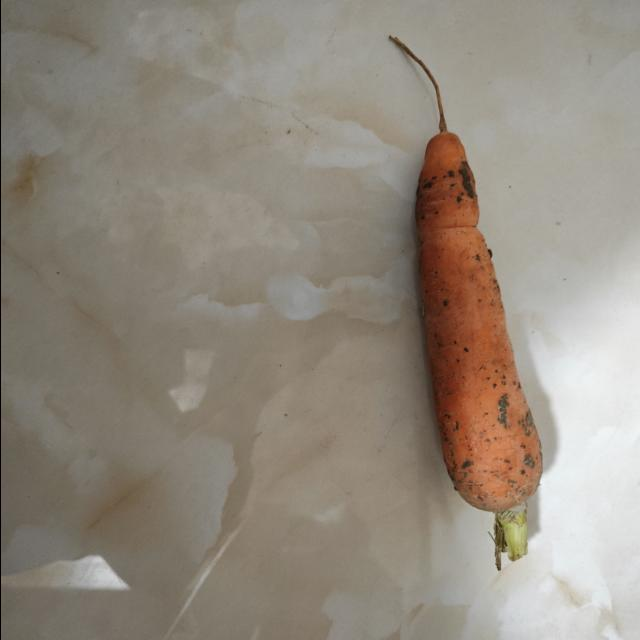-Kitchen waste - carrot-: (416, 35, 545, 557)
